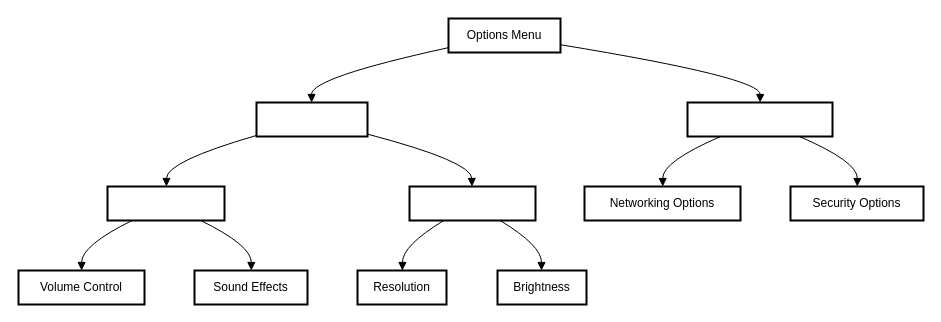
Image size: 941x322. Some labels were removed from this diagram. Here are the shapes that lost their labels. From the top down, the box of each, then its label:
(255, 101, 368, 137): Basic Options
(686, 101, 833, 137): Advanced Options
(106, 185, 225, 221): Sound Options
(408, 185, 536, 221): Display Options
